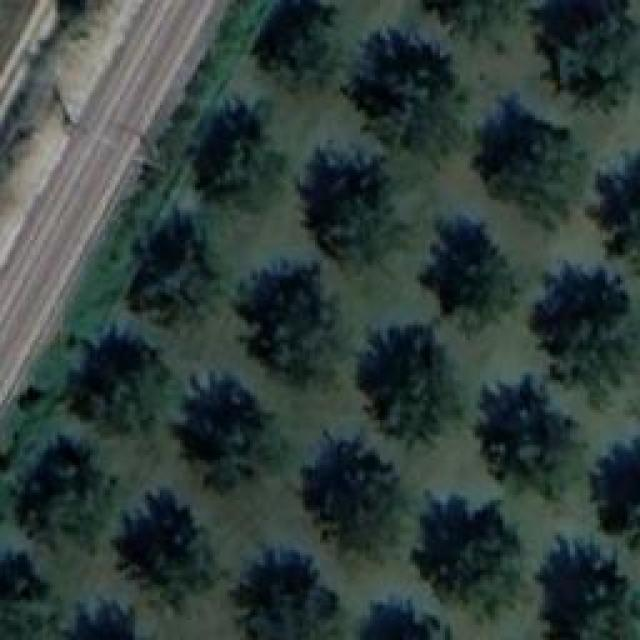Tree: (292, 145, 420, 280), (340, 32, 473, 160), (470, 92, 588, 227), (355, 320, 465, 450), (168, 373, 281, 498), (538, 275, 638, 413), (480, 377, 585, 505), (295, 427, 398, 555), (412, 500, 520, 620), (110, 493, 213, 618), (58, 323, 171, 436), (15, 435, 118, 558), (188, 95, 288, 220), (530, 0, 640, 110), (532, 535, 640, 640), (420, 220, 521, 332), (238, 260, 331, 380), (228, 550, 343, 638), (128, 210, 213, 320), (248, 0, 341, 95), (590, 154, 640, 268), (420, 0, 540, 45), (0, 550, 58, 640), (590, 434, 640, 538), (354, 591, 451, 640), (50, 597, 139, 640)
